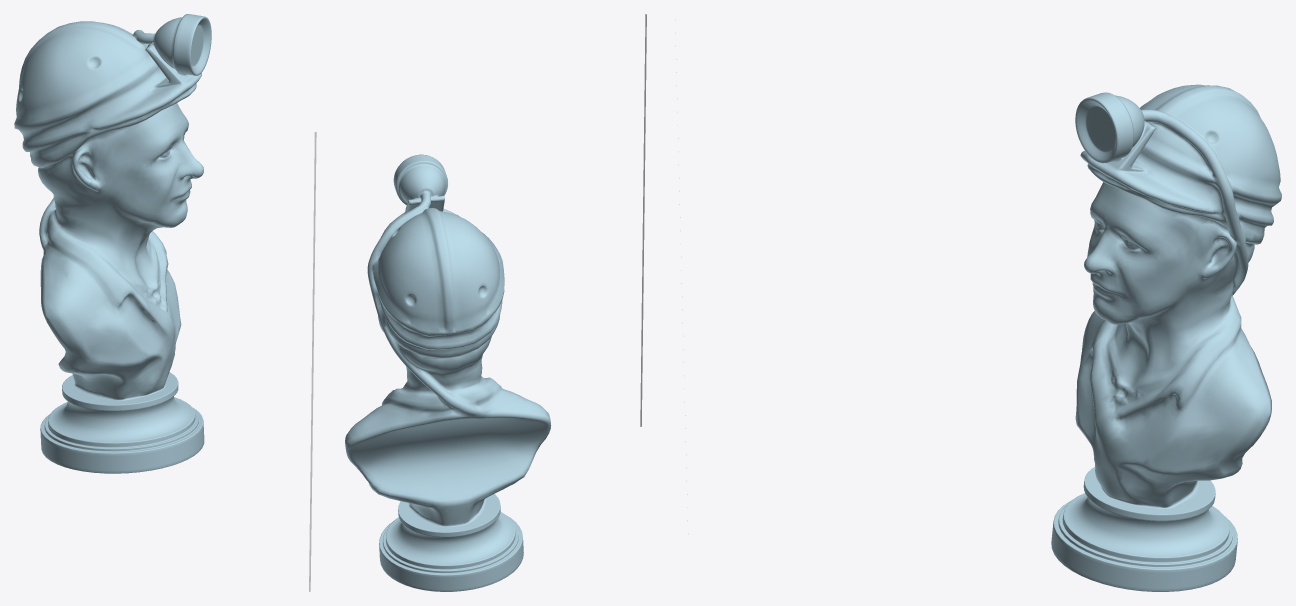
3 views of the same model, side by side, from view 1: azimuth 30°, elevation 25°; view 2: azimuth 150°, elevation 25°; view 3: azimuth 270°, elevation 25° (orthographic). The views are drawn at different scales.
Visible parts, largest first — view 1: 15370_Bust-Coal_Miner_with_Hard_Hat_v1, Плоскость; view 2: 15370_Bust-Coal_Miner_with_Hard_Hat_v1, Плоскость; view 3: 15370_Bust-Coal_Miner_with_Hard_Hat_v1.
Boxes of the visible parts, x1,y1,x2,y2 form: 15370_Bust-Coal_Miner_with_Hard_Hat_v1: (14, 14, 211, 473); Плоскость: (309, 132, 316, 591); 15370_Bust-Coal_Miner_with_Hard_Hat_v1: (345, 154, 551, 591); Плоскость: (640, 14, 646, 426); 15370_Bust-Coal_Miner_with_Hard_Hat_v1: (1051, 84, 1281, 591).
Bounding box in the file's own units: 12.33 × 32.49 × 33.24.
